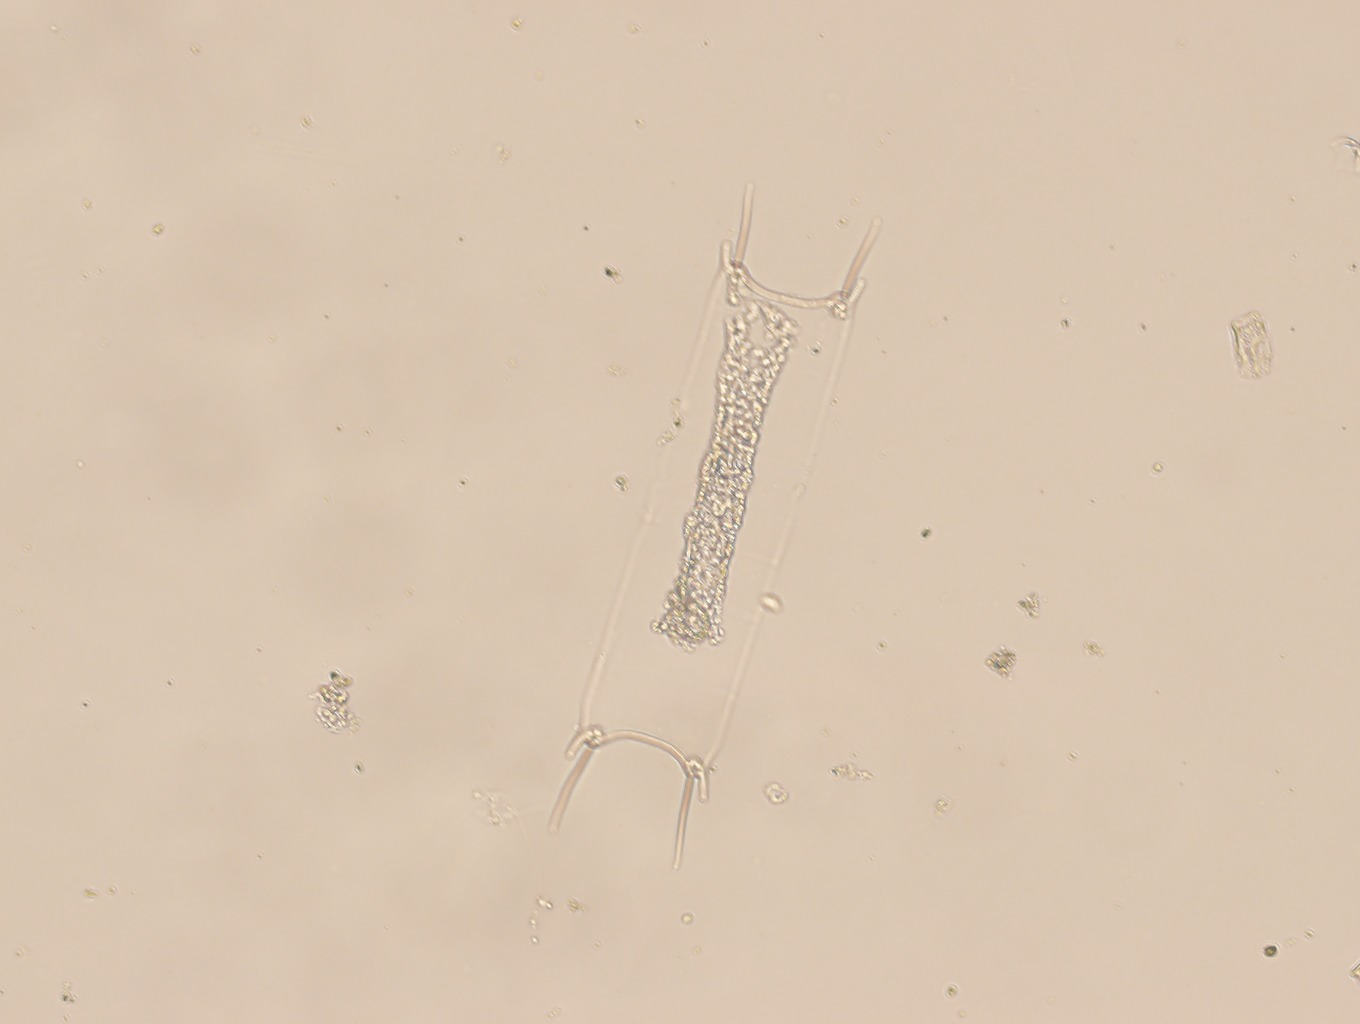biddulphia: (542, 176, 889, 874)
